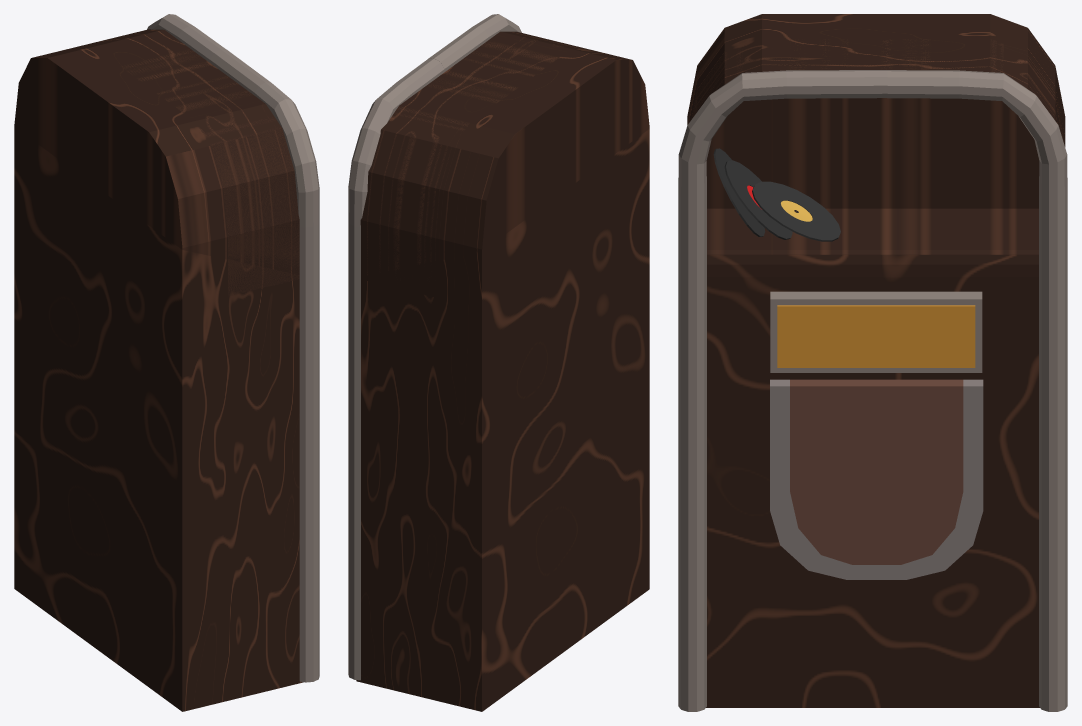
Rendered from jukebox.fbx.
3 renders of one model, left to right at view 1: azimuth 30°, elevation 25°; view 2: azimuth 150°, elevation 25°; view 3: azimuth 270°, elevation 25°, orthographic. The views are drawn at different scales.
Parts seen in each view (by area): view 1: Jukebox; view 2: Jukebox; view 3: Jukebox.
Boxes of the visible parts, box(x1,y1,x2,y2) form: Jukebox: box(14, 14, 319, 711); Jukebox: box(348, 14, 649, 711); Jukebox: box(678, 14, 1067, 711).
Size of the model in its own units: 173 by 659 by 365.
Materials: 9 (1 with a texture image).
